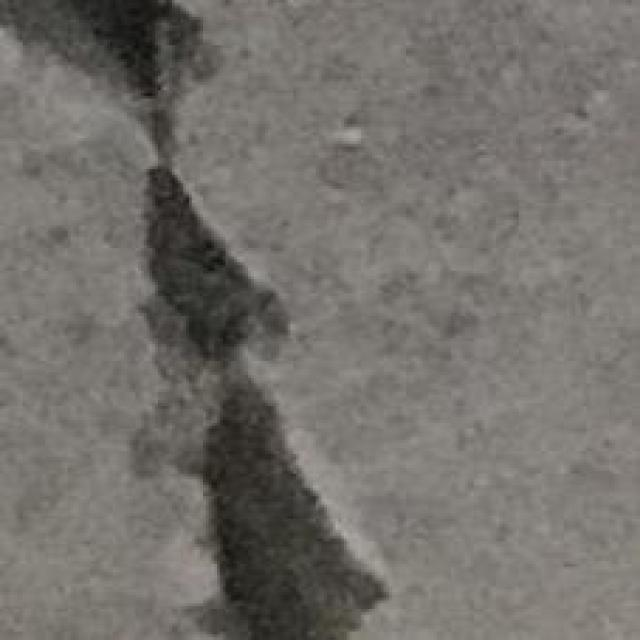Transverse: (0, 1, 393, 639)
